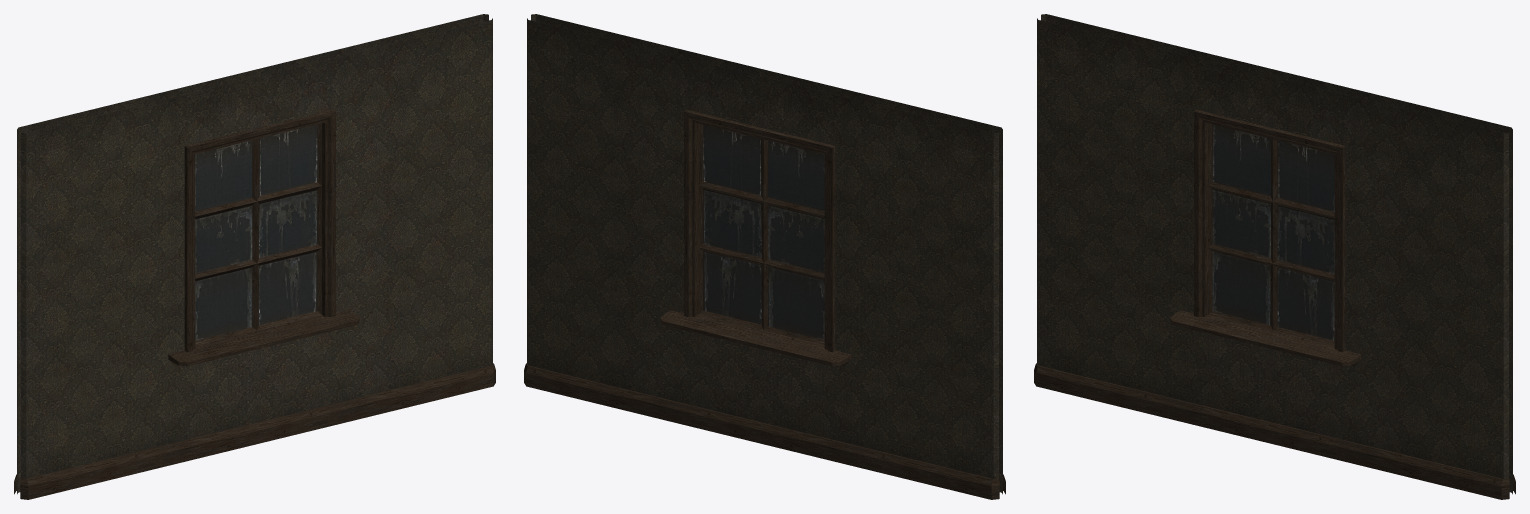
The model's file is window_2_1_single.obj.
3 views of the same model, side by side, from view 1: azimuth 30°, elevation 25°; view 2: azimuth 150°, elevation 25°; view 3: azimuth 330°, elevation 25° (orthographic).
Visible parts, largest first — view 1: window_2_1_single; view 2: window_2_1_single; view 3: window_2_1_single.
Part boxes in pixels (box(x1,y1,x2,y2)): window_2_1_single: box(14, 14, 495, 499); window_2_1_single: box(524, 14, 1005, 499); window_2_1_single: box(1034, 14, 1515, 499).
Size of the model in its own units: 4.09 by 3 by 0.52.
